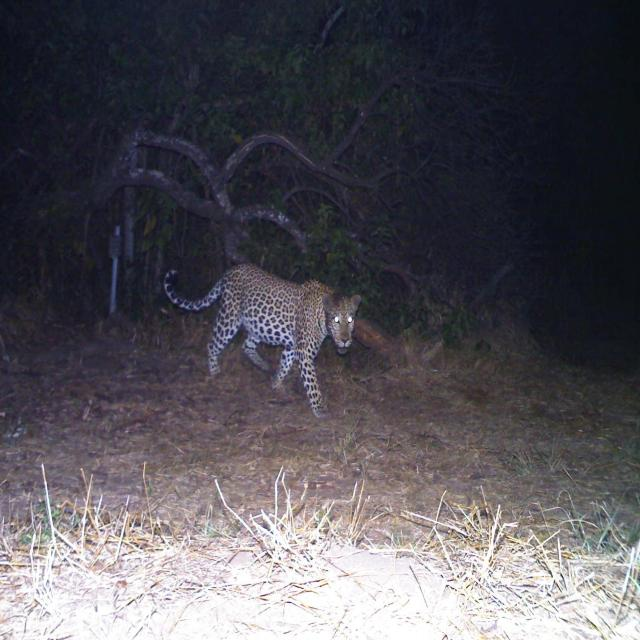Leopard: (152, 256, 368, 410)
